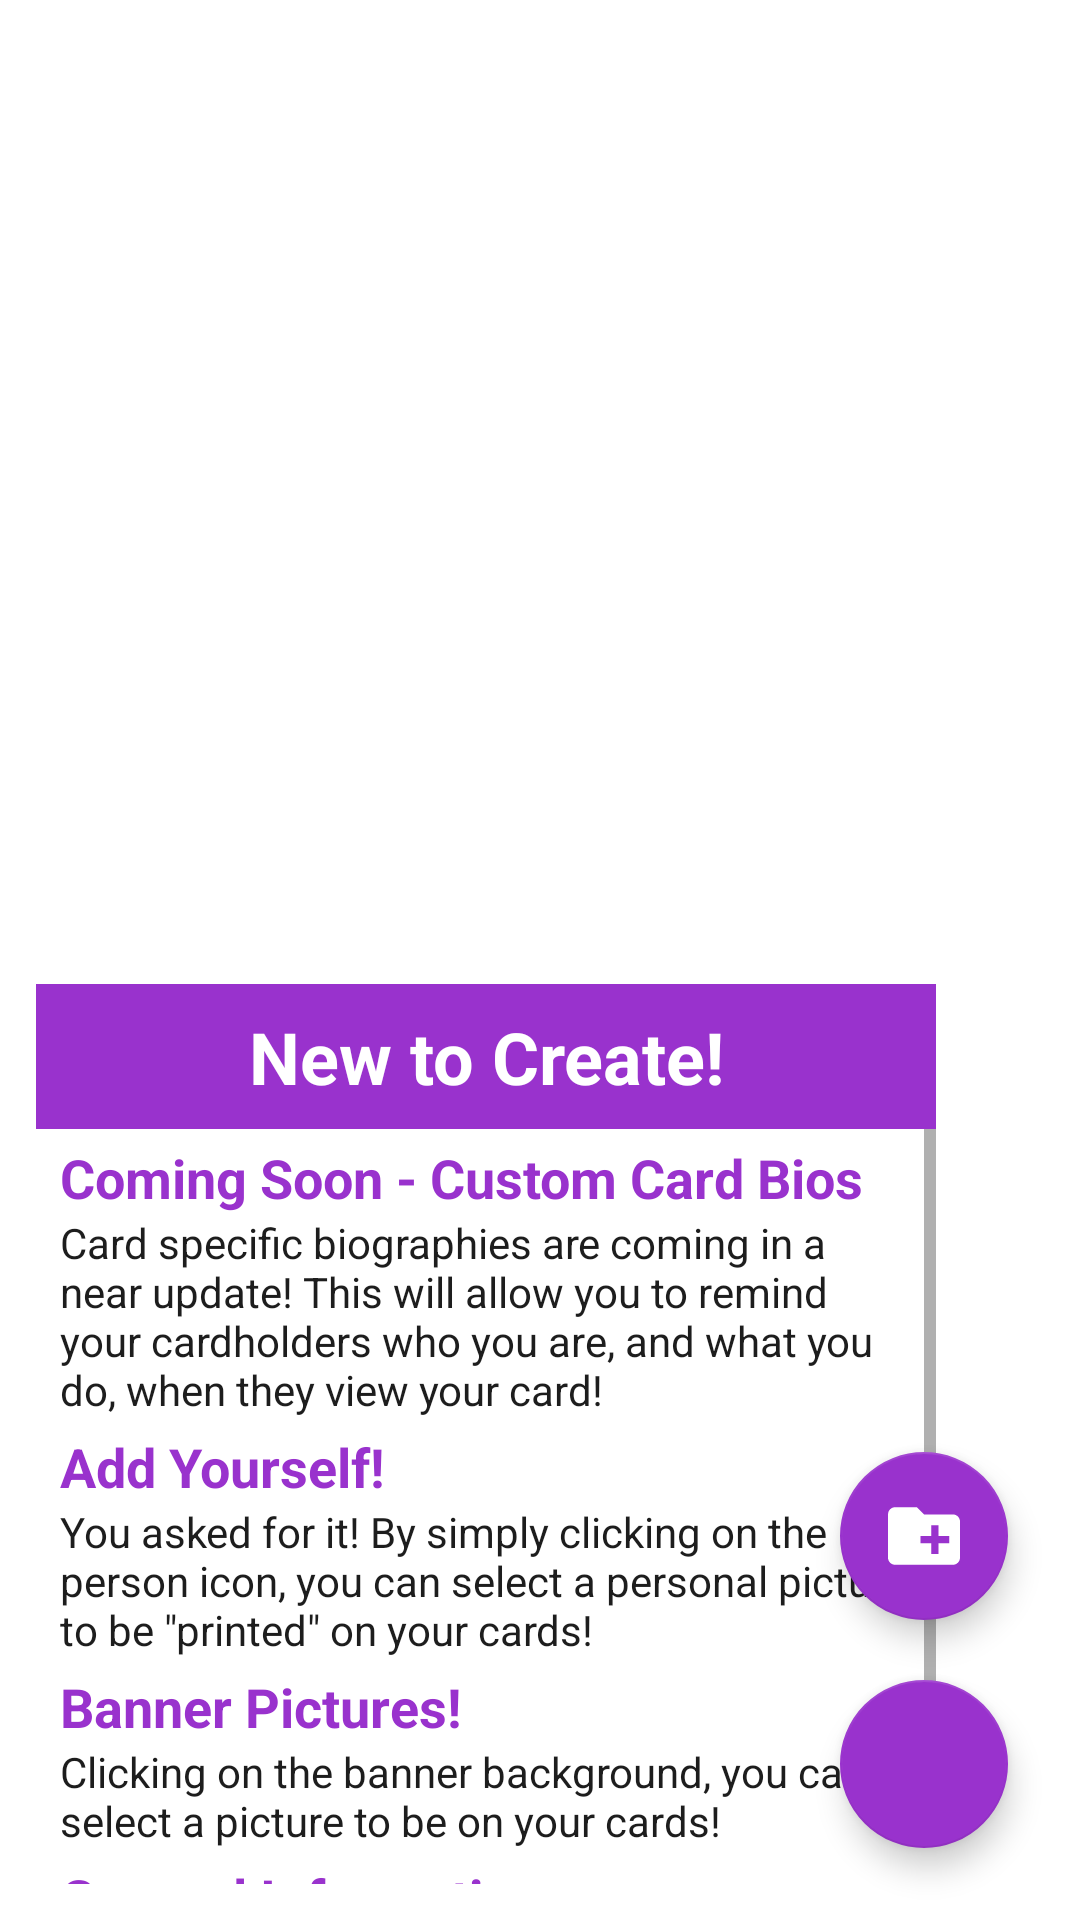

Screen size 1080 × 1920. Icon name, then its box in pixels as (x1, y1, x2, y2):
create packet: (840, 1452, 1008, 1620)
